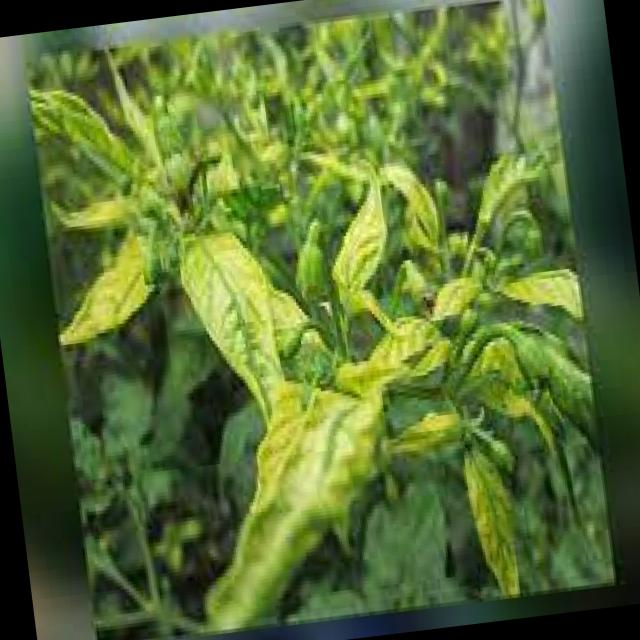Chilli_Leaf_Curl: (20, 0, 616, 640), (170, 220, 290, 434), (46, 228, 160, 348)
